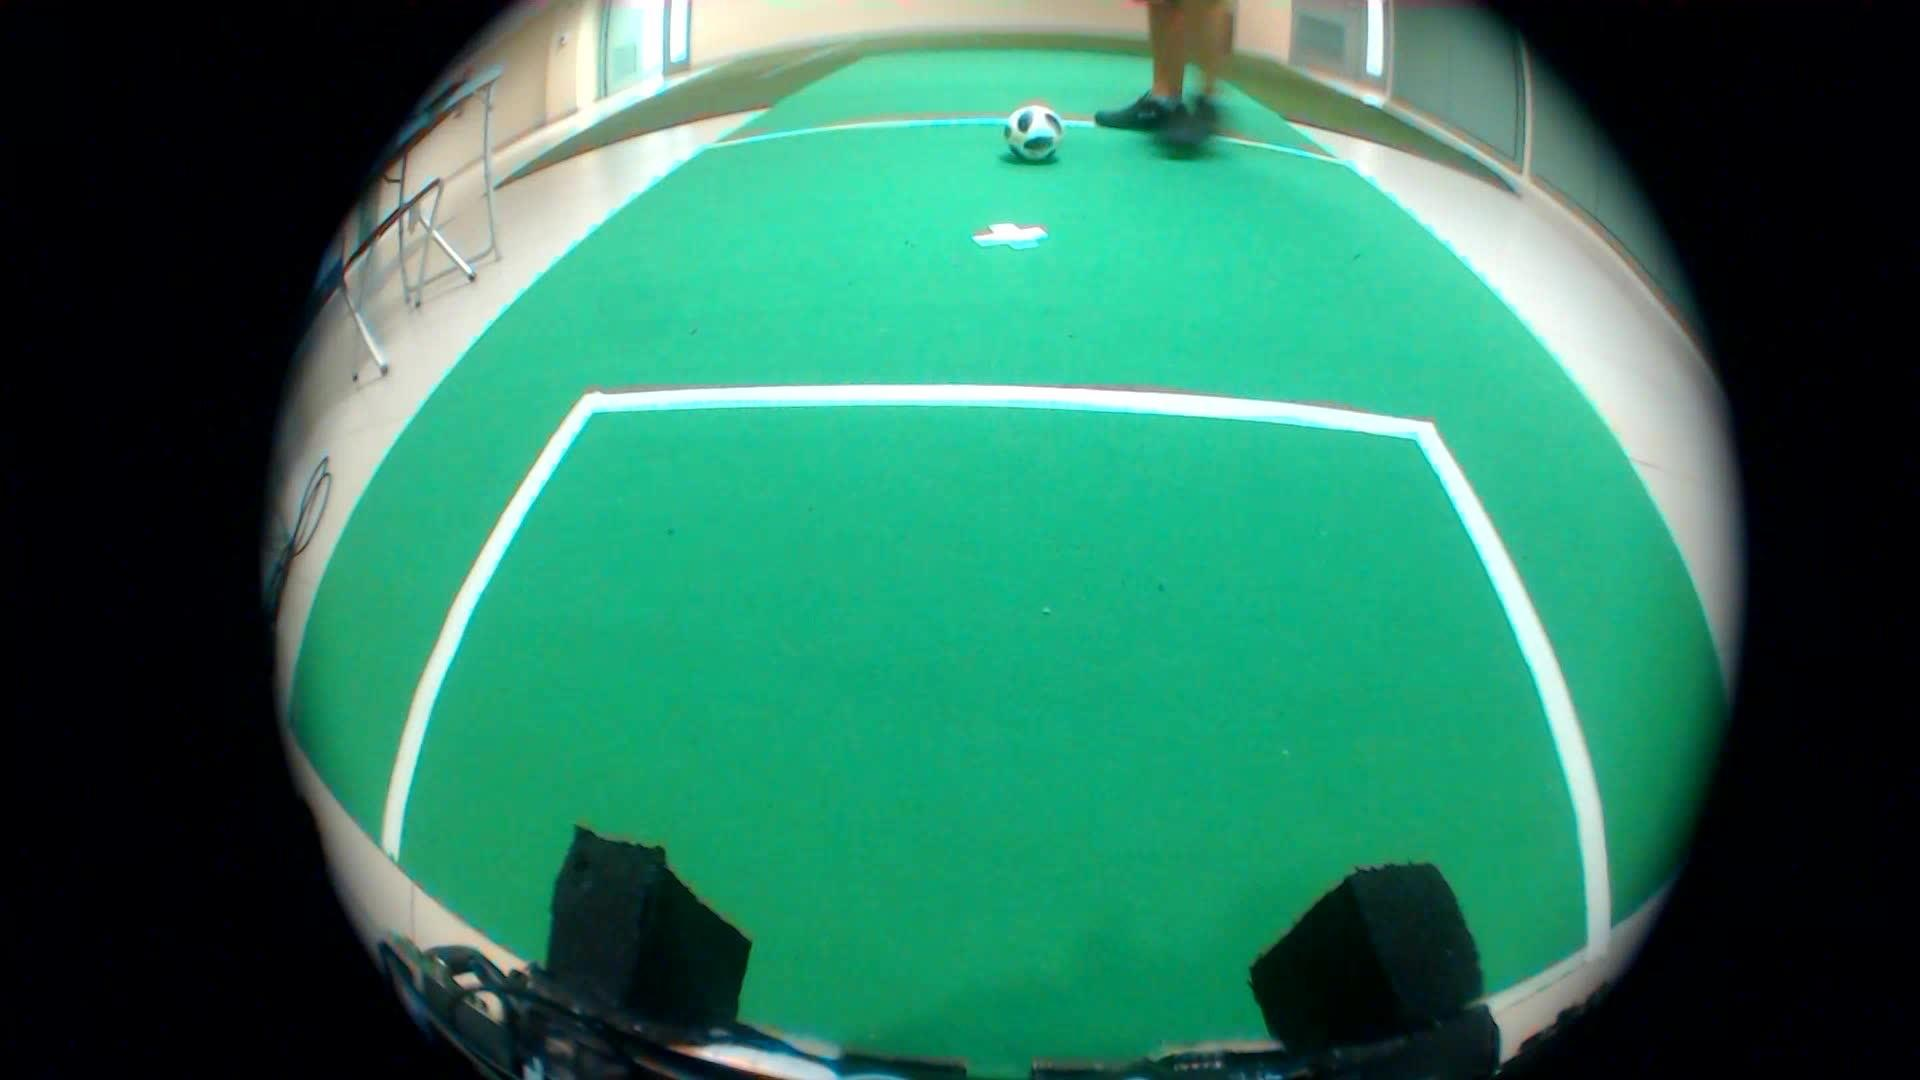ball: (985, 90, 1067, 167)
